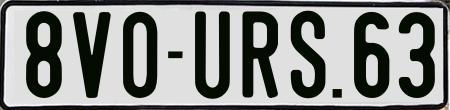0: (121, 12, 159, 99)
3: (397, 9, 431, 98)
6: (353, 12, 388, 100)
8: (23, 11, 64, 103)
R: (239, 11, 275, 100)
S: (288, 10, 329, 101)
U: (192, 10, 228, 102)
V: (71, 12, 110, 101)
